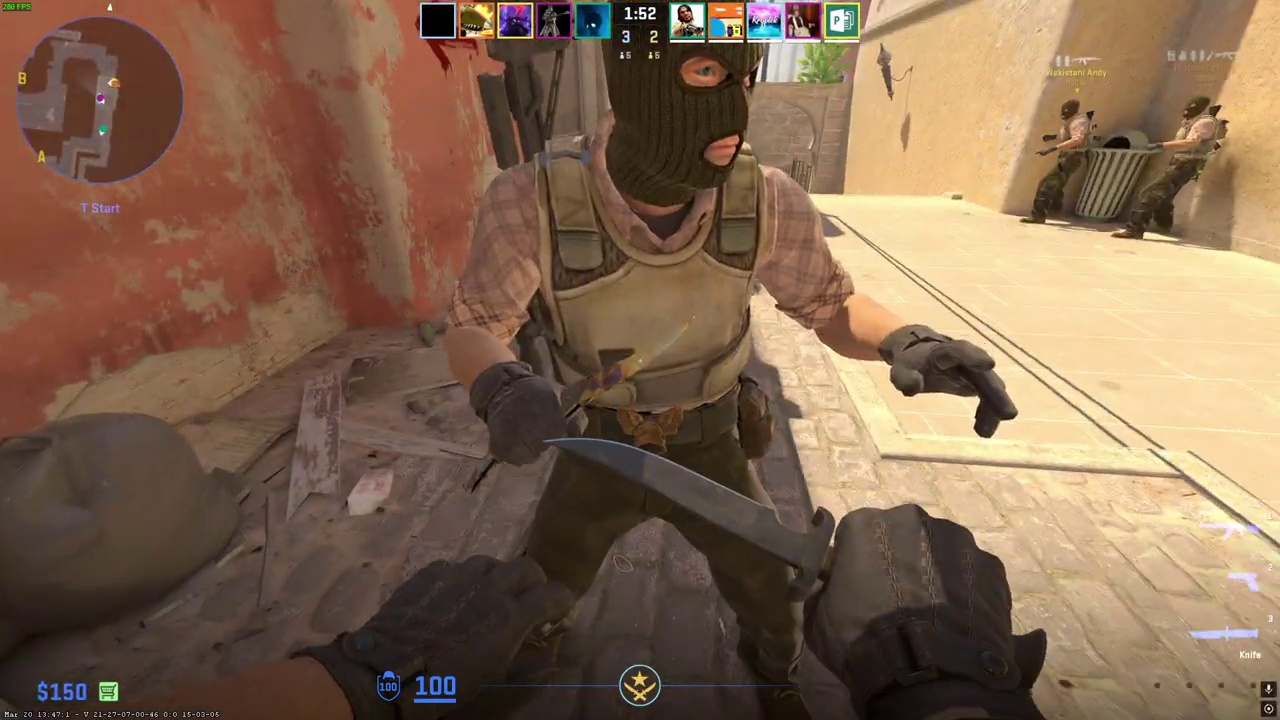Terrorist: (476, 5, 848, 719), (1130, 95, 1227, 239), (1030, 99, 1094, 224)
